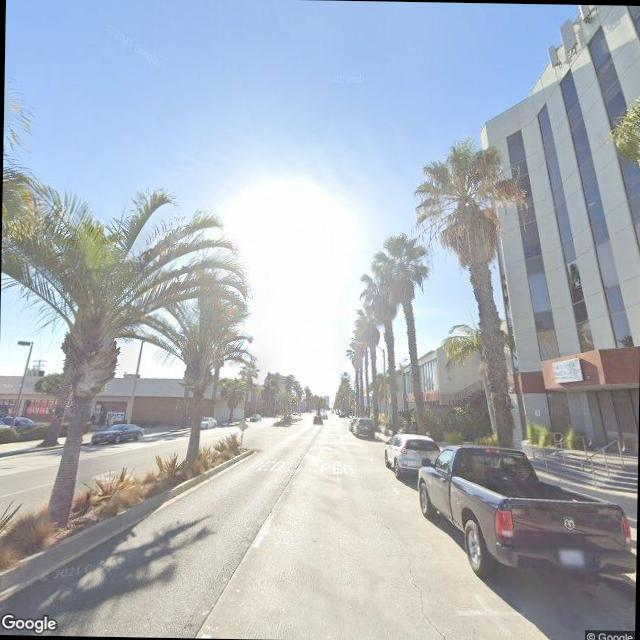crack: (393, 540, 468, 640)
